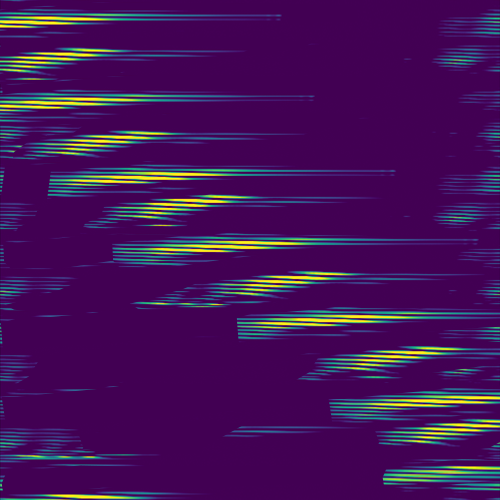semblance: (116, 192, 257, 229), (1, 46, 135, 81), (42, 127, 185, 159), (216, 269, 362, 297), (334, 342, 465, 373), (1, 91, 164, 113), (252, 311, 420, 332), (385, 417, 500, 447), (62, 168, 228, 188), (142, 238, 307, 257), (360, 391, 500, 412), (382, 462, 500, 484), (1, 10, 124, 31)
